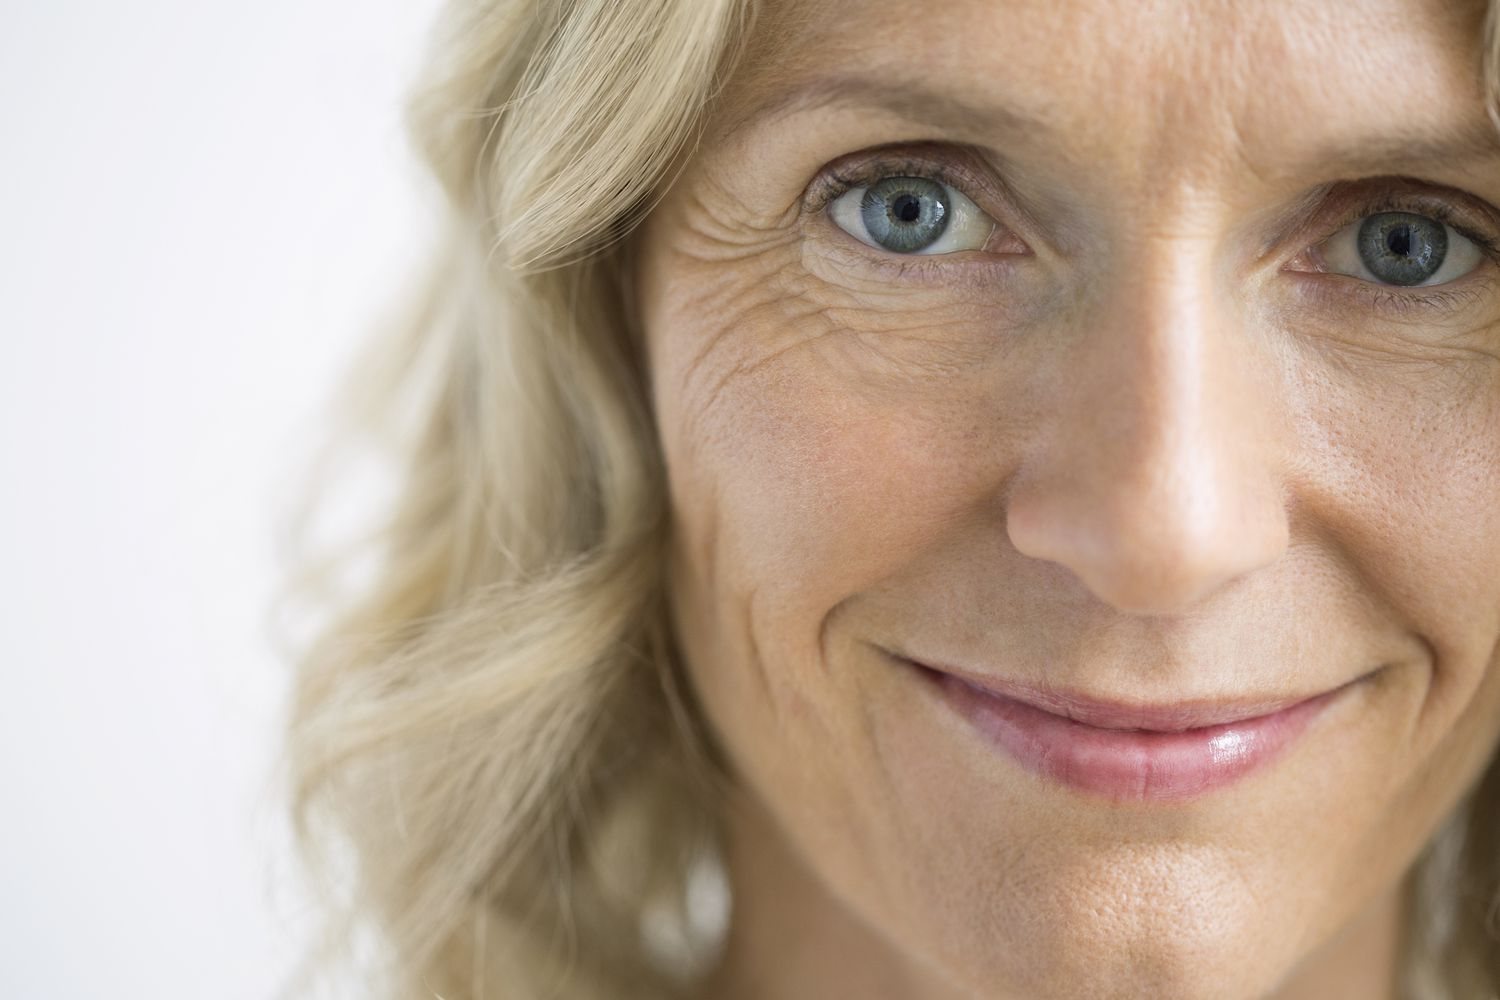Kerutan: (667, 144, 840, 454), (722, 554, 911, 800), (1371, 590, 1500, 810), (1326, 318, 1500, 400)
